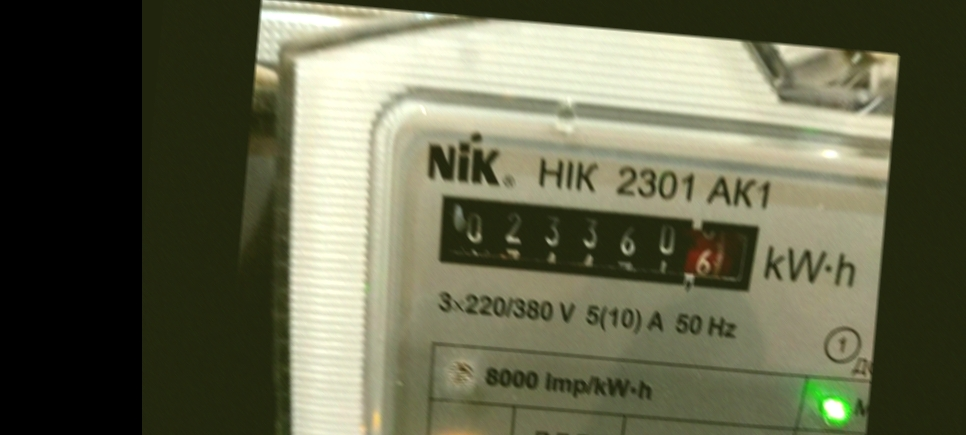0: (460, 206, 485, 243), (653, 219, 678, 256)
2: (500, 208, 524, 244)
3: (539, 211, 562, 248), (578, 214, 599, 249)
6: (615, 220, 637, 255), (691, 242, 712, 276)
screen: (420, 180, 778, 309)
